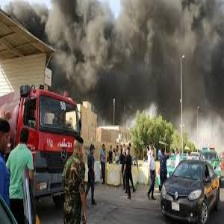smoke: (41, 2, 224, 91)
